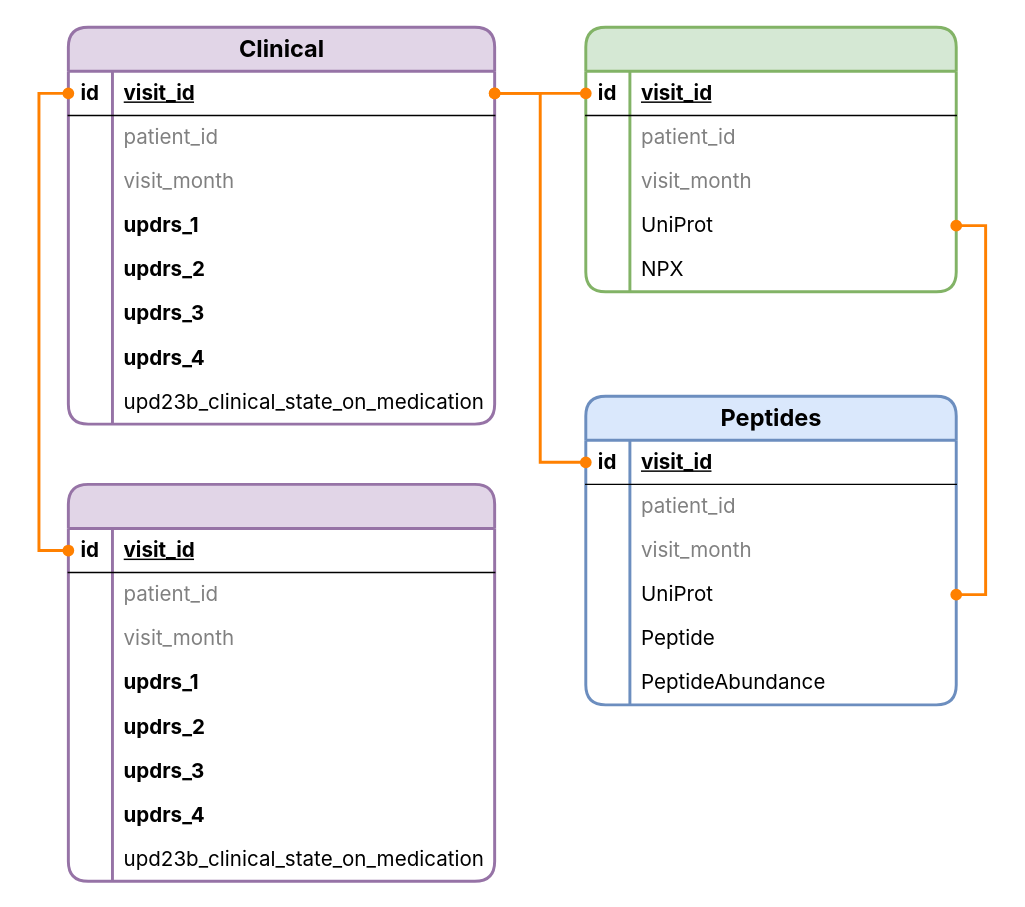
This 1025x907 diagram has some shape labels left out. The box of each missing label's shape, as (x1, y1, x2, y2) in pixels:
Proteins: (584, 25, 957, 293)
Supplemental: (66, 482, 495, 882)
